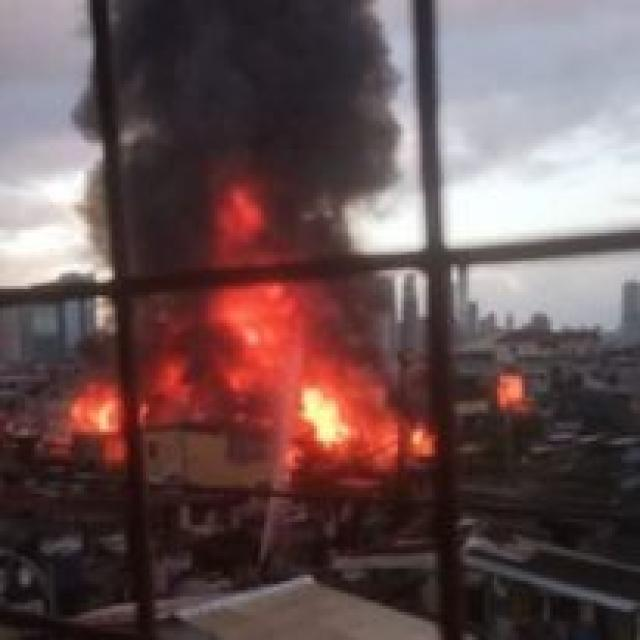Fire: (261, 361, 433, 481), (204, 292, 312, 416), (58, 376, 160, 466), (489, 362, 536, 416)
Smoke: (70, 0, 413, 336)
